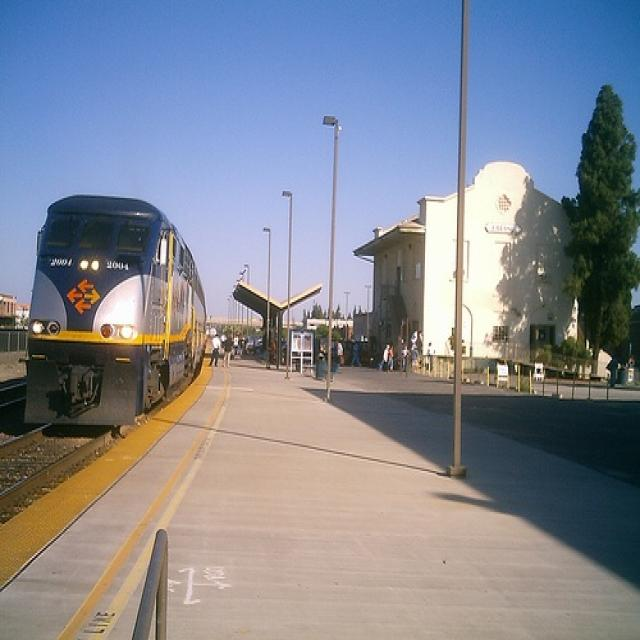train: (22, 193, 207, 427)
